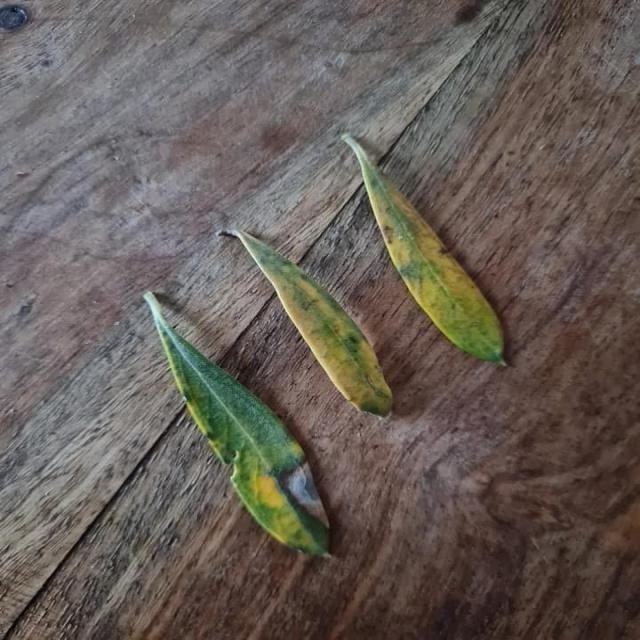Peacock Eye: (143, 292, 329, 555), (341, 135, 505, 365), (218, 230, 391, 417)
